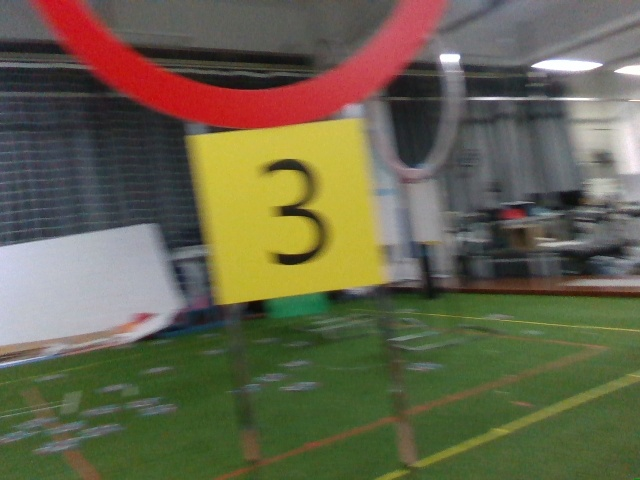target: (214, 139, 368, 279)
